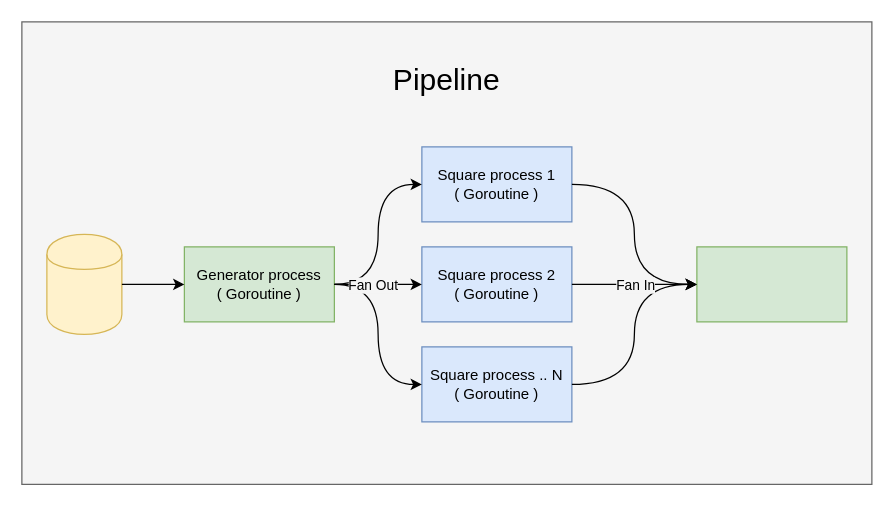
The diagram is 894 pixels wide and 506 high, and some of its shapes have lost their labels. Each missing label, with the centre of its shape:
Data: the point at 84,283
Merge process .. N ( Goroutine ): the point at 771,284
